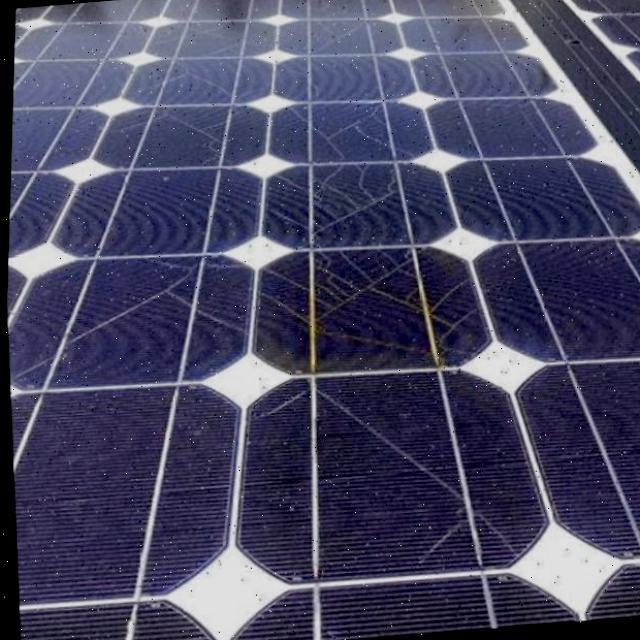Anomaly Solar Panel: (3, 0, 640, 640)
Normal Solar Panel: (554, 0, 640, 91)
Structural Damage: (309, 387, 464, 502), (62, 249, 242, 347), (288, 146, 403, 239), (303, 239, 419, 329), (419, 276, 485, 363), (308, 106, 414, 160), (312, 326, 429, 355), (155, 110, 224, 156), (133, 68, 227, 99), (415, 516, 467, 568), (254, 288, 310, 327), (476, 510, 519, 559), (257, 386, 306, 422), (256, 265, 309, 295), (267, 169, 305, 195), (266, 209, 305, 232), (281, 103, 307, 124)
